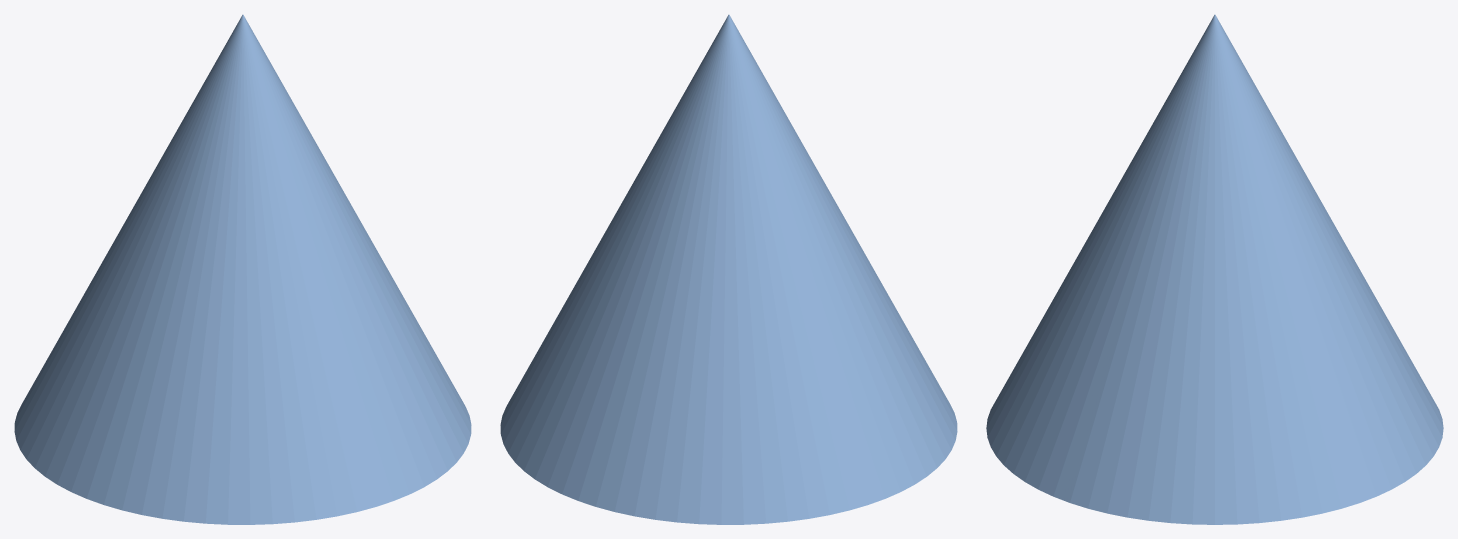
3 renders of one model, left to right at view 1: azimuth 30°, elevation 25°; view 2: azimuth 150°, elevation 25°; view 3: azimuth 270°, elevation 25°, orthographic.
Visible parts, largest first — view 1: cone; view 2: cone; view 3: cone.
Boxes of the visible parts, box(x1,y1,x2,y2) form: cone: box(14, 14, 471, 524); cone: box(500, 14, 957, 524); cone: box(986, 14, 1443, 524).
Bounding box in the file's own units: 70 × 70 × 70.
